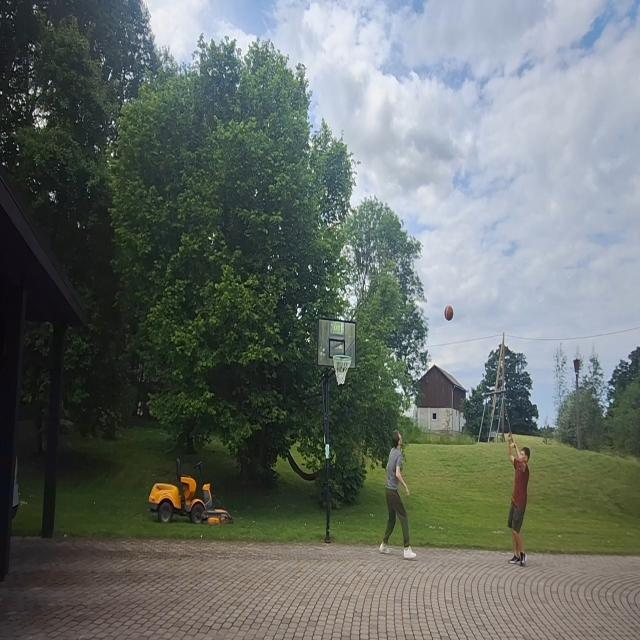ball: (444, 304, 454, 322)
basket: (332, 353, 352, 388)
player: (380, 428, 420, 562), (506, 429, 531, 567)
